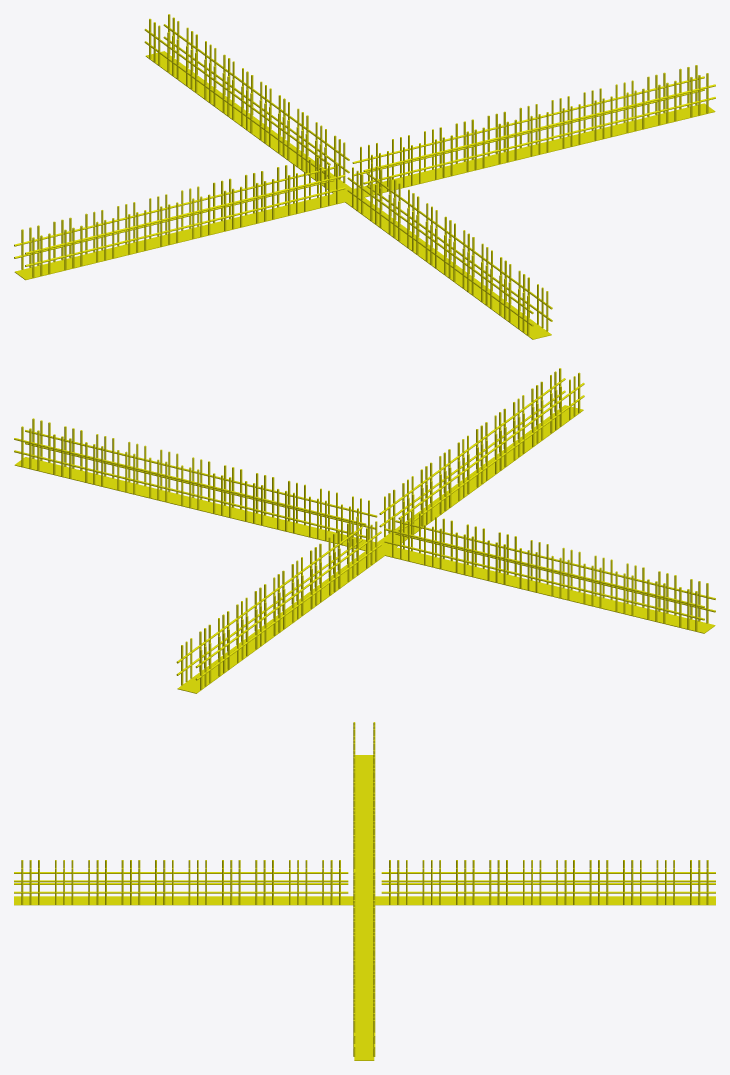
File: CatWalk.fbx
The picture shows the model from 3 angles, top to bottom: view 1: azimuth 30°, elevation 25°; view 2: azimuth 150°, elevation 25°; view 3: azimuth 270°, elevation 25°; orthographic projection. The views are drawn at different scales.
Parts seen in each view (by area): view 1: pCube45, pCube44, pCube58, pCube43, pCube46, pCube48, pCube49, pCube56, pCube53, pCube54, pCube59, pCube47 (+29 smaller); view 2: pCube45, pCube44, pCube55, pCube48, pCube47, pCube59, pCube49, pCube46, pCube56, pCube58, pCube57, pCube43 (+29 smaller); view 3: pCube11, pCube24, pCube14, pCube15, pCube21, pCube22, pCube27, pCube60, pCube9, pCube13, pCube16, pCube20 (+8 smaller).
Part boxes in pixels (<box>): pCube45: <box>14,225,57,280</box>; pCube44: <box>174,186,217,241</box>; pCube58: <box>640,72,683,127</box>; pCube43: <box>206,178,249,233</box>; pCube46: <box>46,217,89,272</box>; pCube48: <box>110,202,153,256</box>; pCube49: <box>142,194,185,248</box>; pCube56: <box>577,88,619,142</box>; pCube53: <box>481,111,524,166</box>; pCube54: <box>513,104,556,158</box>; pCube59: <box>672,65,715,119</box>; pCube47: <box>78,210,121,264</box>; pCube45: <box>672,579,715,633</box>; pCube44: <box>512,540,555,594</box>; pCube55: <box>142,449,184,504</box>; pCube48: <box>576,555,619,610</box>; pCube47: <box>608,563,651,618</box>; pCube59: <box>14,418,57,472</box>; pCube49: <box>544,547,587,602</box>; pCube46: <box>640,571,683,625</box>; pCube56: <box>110,441,152,496</box>; pCube58: <box>46,426,88,480</box>; pCube57: <box>78,434,121,488</box>; pCube43: <box>480,532,523,586</box>; pCube11: <box>582,860,615,905</box>; pCube24: <box>114,860,147,905</box>; pCube14: <box>482,860,515,905</box>; pCube15: <box>448,860,481,905</box>; pCube21: <box>248,860,281,905</box>; pCube22: <box>214,860,247,905</box>; pCube27: <box>14,860,47,905</box>; pCube60: <box>682,860,715,905</box>; pCube9: <box>649,860,682,905</box>; pCube13: <box>515,860,548,905</box>; pCube16: <box>415,860,448,905</box>; pCube20: <box>281,860,314,905</box>.
Size of the model in its own units: 36.25 by 2.04 by 35.25.
